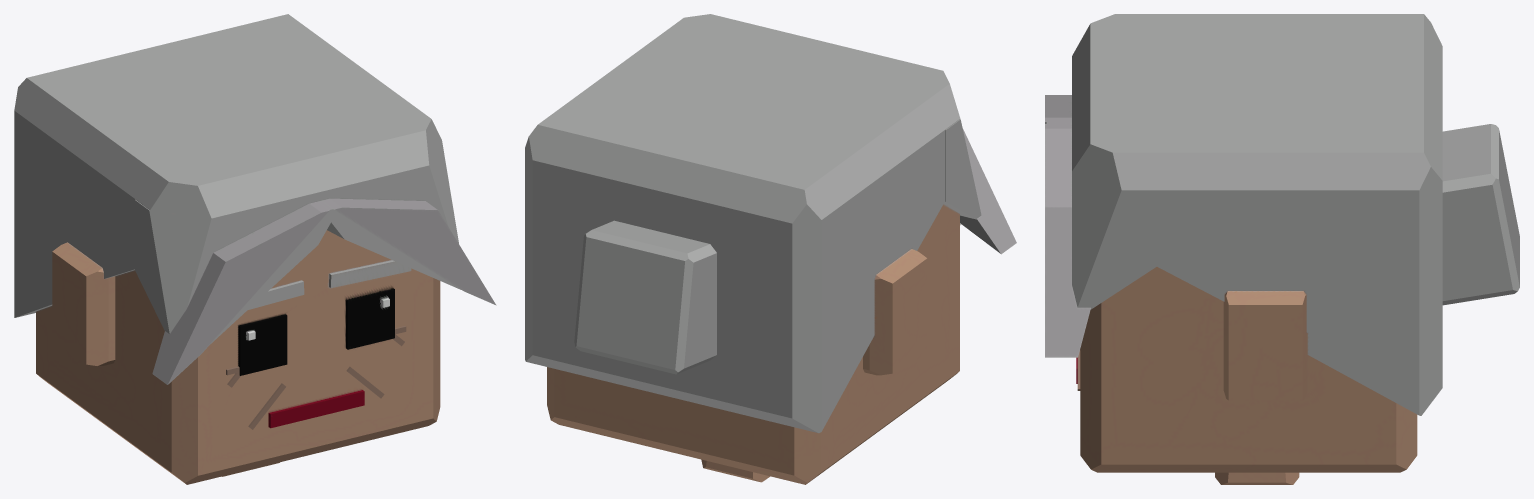
Rendered from Head.fbx.
The picture shows the model from 3 angles, left to right: view 1: azimuth 30°, elevation 25°; view 2: azimuth 150°, elevation 25°; view 3: azimuth 270°, elevation 25°; orthographic projection. The views are drawn at different scales.
Parts seen in each view (by area): view 1: node_id27; view 2: node_id27; view 3: node_id27.
Boxes of the visible parts, bbox=[...] form: node_id27: bbox=[14, 14, 496, 484]; node_id27: bbox=[525, 14, 1016, 484]; node_id27: bbox=[1045, 14, 1519, 484].
Bounding box in the file's own units: 0.4957 × 0.512 × 0.5705.
3 materials, 1 textured.
